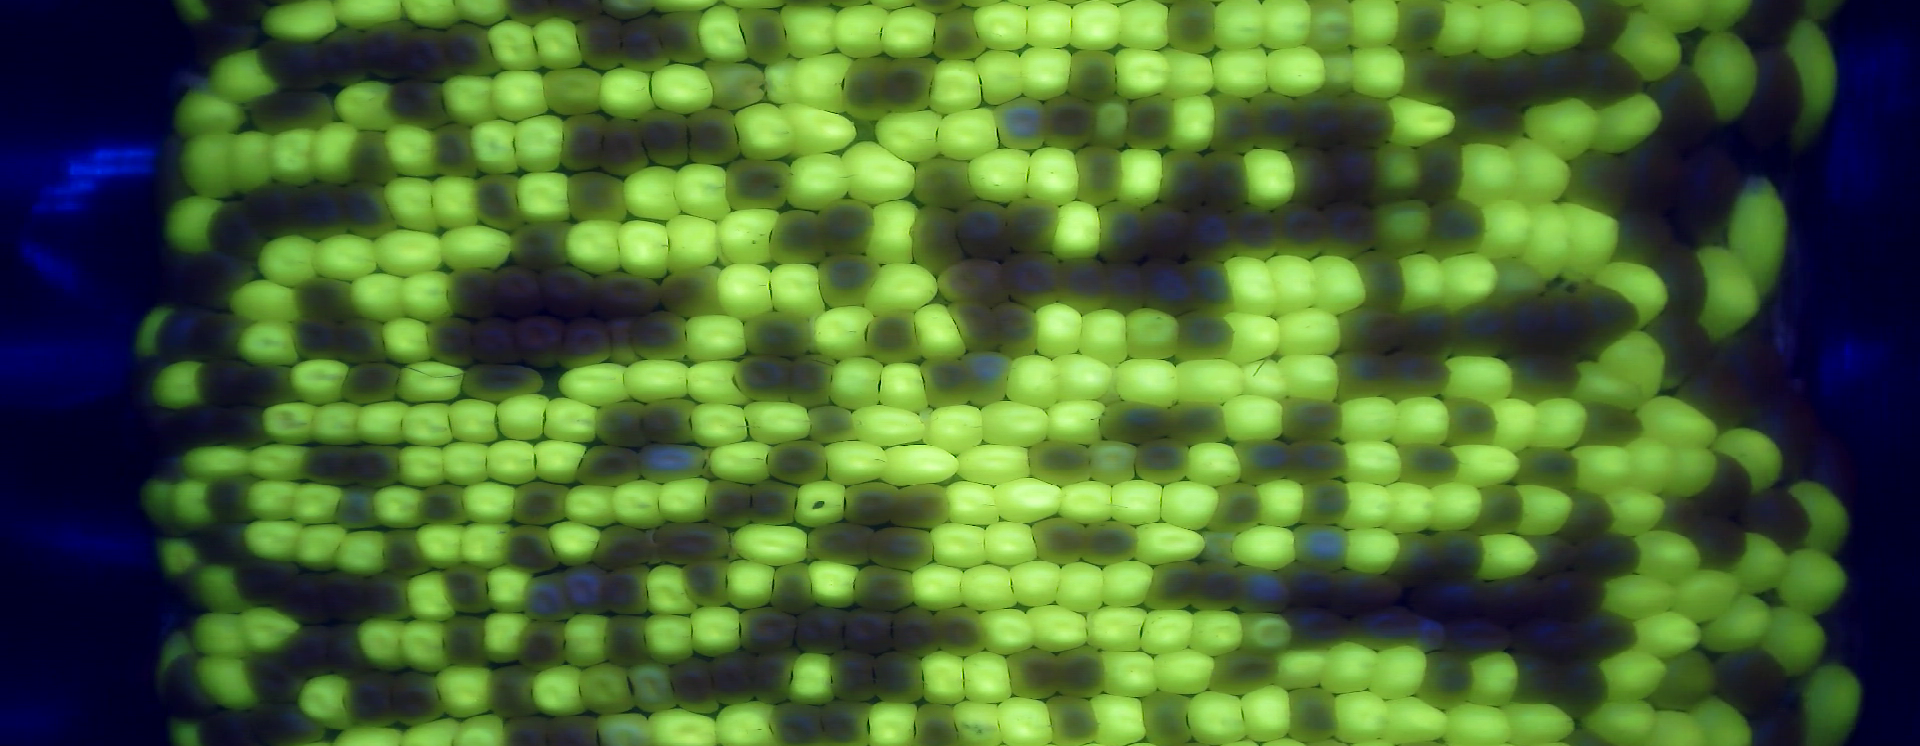fluorescent: (1729, 183, 1788, 293), (1698, 243, 1756, 338), (1788, 22, 1836, 136), (1589, 262, 1668, 330), (1696, 32, 1753, 118), (842, 143, 913, 205), (1806, 668, 1862, 744), (1600, 330, 1659, 402), (1782, 551, 1845, 617), (1791, 480, 1848, 552), (1523, 102, 1598, 154), (1763, 609, 1826, 671), (1618, 16, 1679, 78), (1511, 140, 1569, 203), (718, 208, 782, 265), (1718, 426, 1783, 483), (1389, 98, 1456, 152), (1458, 137, 1511, 206), (889, 440, 962, 489), (937, 107, 1002, 162), (372, 227, 447, 274), (1572, 202, 1621, 274), (789, 102, 853, 156), (1596, 98, 1660, 152), (178, 132, 230, 198), (1243, 147, 1296, 213), (1641, 397, 1716, 443), (1707, 598, 1771, 652), (173, 87, 242, 136), (869, 197, 917, 268), (926, 58, 982, 118), (675, 160, 731, 220), (1738, 532, 1787, 600), (1673, 570, 1736, 622), (438, 225, 514, 269), (874, 111, 940, 162), (651, 60, 713, 114), (970, 149, 1032, 202), (1109, 359, 1178, 407), (213, 51, 279, 100), (1473, 203, 1532, 258), (1224, 254, 1277, 315), (1580, 361, 1647, 409), (958, 440, 1030, 484), (789, 153, 853, 202), (880, 6, 937, 62), (1266, 42, 1324, 97), (825, 358, 884, 412), (1587, 701, 1665, 741), (1178, 361, 1248, 407), (1636, 530, 1696, 583), (980, 401, 1053, 443), (310, 232, 373, 281), (1635, 612, 1698, 661), (382, 175, 437, 232), (1188, 691, 1244, 746), (233, 284, 302, 328), (1447, 354, 1513, 401), (1278, 307, 1340, 358), (1029, 145, 1078, 207), (1041, 398, 1103, 447), (1532, 208, 1573, 282), (868, 262, 936, 307), (193, 652, 249, 707), (768, 260, 822, 316), (618, 220, 670, 279), (811, 307, 869, 359), (1597, 572, 1671, 612), (684, 312, 744, 363), (489, 17, 538, 78), (396, 359, 465, 402), (623, 167, 678, 220), (260, 233, 315, 287), (1053, 202, 1103, 261), (1338, 394, 1398, 443), (998, 477, 1058, 526), (1603, 652, 1663, 701), (1127, 307, 1180, 361), (1371, 642, 1424, 697), (1316, 257, 1367, 315), (1656, 652, 1714, 701), (736, 102, 789, 156), (1269, 257, 1320, 312), (828, 443, 890, 489), (268, 127, 318, 184), (927, 405, 983, 456), (1524, 2, 1582, 51), (1603, 494, 1668, 537), (929, 523, 991, 568), (718, 701, 779, 746), (580, 661, 633, 714), (599, 66, 653, 118), (913, 303, 965, 356), (437, 663, 489, 717), (784, 6, 839, 56), (973, 51, 1024, 107), (486, 437, 542, 486), (301, 680, 358, 729), (240, 604, 298, 652), (556, 364, 631, 401), (1341, 528, 1400, 575), (235, 322, 295, 367), (1573, 442, 1626, 494), (1538, 397, 1589, 450), (721, 265, 771, 318), (1335, 693, 1389, 744), (309, 121, 353, 183), (444, 72, 500, 121), (707, 441, 768, 485), (961, 565, 1016, 614), (239, 477, 294, 526), (1138, 522, 1209, 560), (1085, 608, 1142, 654), (514, 113, 560, 171), (1116, 149, 1161, 208), (290, 356, 349, 402), (1056, 352, 1114, 397), (1184, 442, 1244, 486), (708, 60, 760, 110), (568, 220, 618, 273), (1093, 696, 1146, 746), (1429, 2, 1482, 53), (491, 72, 545, 121), (1018, 47, 1067, 100), (1395, 397, 1449, 446), (1163, 481, 1217, 530), (1520, 486, 1573, 535), (471, 121, 519, 176), (700, 7, 748, 62), (1480, 2, 1528, 58), (228, 132, 268, 197), (748, 403, 813, 443), (651, 706, 716, 746), (797, 55, 844, 111), (1082, 307, 1129, 364), (994, 697, 1051, 744), (1693, 699, 1750, 746), (1450, 443, 1518, 481), (1232, 528, 1294, 570), (545, 69, 604, 113), (1215, 50, 1266, 100), (153, 361, 204, 412), (689, 605, 740, 657), (834, 5, 883, 58), (1445, 704, 1509, 745), (1444, 251, 1487, 311), (264, 2, 334, 39), (965, 650, 1011, 706), (1479, 532, 1536, 577), (1152, 650, 1213, 692), (1671, 441, 1713, 502), (1511, 701, 1576, 740), (735, 527, 806, 562), (384, 122, 433, 174), (1228, 394, 1280, 443), (1193, 608, 1244, 657), (1469, 654, 1518, 706), (1284, 353, 1337, 401), (1228, 315, 1282, 361), (516, 174, 571, 219), (628, 360, 692, 399), (539, 399, 595, 443), (688, 361, 744, 405), (1398, 255, 1442, 311), (1386, 698, 1442, 742), (1030, 606, 1087, 649), (1630, 437, 1673, 495), (531, 18, 582, 67), (671, 217, 720, 267), (1433, 479, 1480, 530), (1102, 652, 1153, 699), (431, 173, 478, 225), (196, 560, 242, 612), (1010, 356, 1056, 410), (852, 407, 921, 442), (1117, 2, 1172, 47), (1164, 51, 1213, 100), (920, 655, 969, 704), (1489, 401, 1538, 450), (1356, 45, 1403, 96), (1342, 481, 1390, 532), (1010, 562, 1060, 610), (727, 559, 774, 610), (1103, 562, 1156, 608), (911, 563, 964, 609), (1038, 303, 1082, 356), (249, 439, 305, 480), (1025, 1, 1073, 50), (876, 363, 924, 410), (949, 481, 998, 529), (463, 479, 512, 527), (1118, 51, 1168, 98), (692, 402, 749, 442), (337, 82, 389, 126), (1245, 684, 1288, 737), (1053, 560, 1101, 608), (978, 2, 1025, 51), (404, 402, 453, 448), (1342, 441, 1398, 481), (498, 392, 549, 437), (1109, 481, 1160, 527), (1142, 611, 1193, 657), (482, 611, 528, 661), (399, 619, 444, 669), (1378, 203, 1429, 247), (982, 612, 1035, 655), (362, 617, 404, 671), (808, 560, 855, 608), (1073, 2, 1118, 51), (1217, 2, 1266, 48), (1311, 4, 1357, 53), (533, 668, 582, 713), (612, 483, 661, 528), (568, 481, 617, 527), (1322, 647, 1373, 691), (791, 481, 842, 524), (416, 522, 463, 568), (407, 572, 453, 619), (1258, 481, 1303, 529), (1387, 484, 1433, 532), (628, 666, 677, 710), (447, 399, 498, 441), (982, 523, 1033, 565), (261, 401, 313, 441), (1238, 610, 1291, 650), (549, 524, 601, 565), (331, 1, 403, 31), (1058, 483, 1112, 522), (659, 477, 707, 521), (786, 653, 828, 703), (863, 704, 915, 745), (1381, 147, 1420, 200), (338, 530, 383, 576), (382, 317, 429, 361), (404, 272, 448, 318), (293, 483, 340, 526), (1275, 649, 1329, 687), (351, 277, 402, 317), (182, 443, 249, 474), (1359, 1, 1403, 47), (315, 401, 359, 446), (953, 699, 996, 746), (1173, 99, 1213, 148), (359, 402, 408, 442), (191, 612, 242, 650), (399, 446, 443, 490), (1266, 2, 1311, 45), (300, 526, 347, 567), (535, 442, 583, 483), (373, 481, 419, 523), (247, 522, 295, 561), (443, 441, 484, 486), (1646, 710, 1697, 746), (564, 615, 604, 661), (1091, 442, 1135, 483), (600, 713, 654, 746), (1240, 363, 1286, 401), (489, 563, 527, 608), (465, 526, 509, 562), (1320, 47, 1356, 92), (147, 480, 182, 523), (398, 718, 451, 746), (451, 717, 501, 746), (135, 307, 163, 358), (162, 533, 195, 575), (760, 62, 796, 100), (178, 486, 208, 527), (159, 630, 184, 677)
nonfluorescent: (1753, 44, 1802, 158), (1516, 657, 1607, 717), (1679, 147, 1738, 234), (1758, 394, 1812, 484), (1651, 67, 1716, 140), (1646, 316, 1706, 383), (1625, 143, 1682, 212), (1678, 367, 1746, 424), (1353, 608, 1442, 650), (864, 307, 924, 371), (1569, 151, 1627, 216), (1713, 652, 1785, 704), (1723, 336, 1774, 407), (999, 250, 1058, 309), (912, 201, 960, 272), (1745, 490, 1812, 540), (1656, 250, 1706, 317), (727, 163, 793, 213), (238, 552, 298, 608), (185, 22, 249, 73), (250, 88, 333, 127), (1588, 287, 1638, 352), (816, 198, 874, 254), (260, 40, 327, 88), (247, 704, 324, 746), (1162, 148, 1212, 212), (1451, 303, 1510, 356), (1510, 356, 1580, 402), (1414, 576, 1483, 621), (1703, 451, 1751, 516), (744, 314, 818, 355), (940, 258, 1008, 304), (953, 198, 1008, 254), (1584, 51, 1640, 107), (1343, 93, 1397, 149), (242, 183, 295, 240), (1539, 575, 1608, 619), (820, 254, 882, 303), (653, 522, 729, 561), (1429, 203, 1484, 257), (1422, 647, 1468, 710), (1097, 201, 1149, 258), (1178, 310, 1236, 361), (1098, 398, 1169, 440), (770, 209, 820, 267), (1420, 136, 1463, 203), (662, 265, 721, 314), (462, 366, 542, 402), (853, 565, 913, 612), (1455, 107, 1523, 148), (1273, 205, 1326, 258), (1056, 260, 1108, 314), (389, 673, 443, 725), (1749, 690, 1802, 742), (207, 201, 258, 256), (193, 256, 249, 307), (1212, 649, 1275, 695), (632, 312, 688, 363), (1513, 616, 1583, 657), (689, 108, 737, 167), (245, 653, 300, 703), (807, 524, 873, 566), (643, 108, 689, 167), (578, 15, 624, 73), (1288, 687, 1335, 746), (593, 272, 662, 311), (578, 445, 645, 485), (540, 262, 593, 314), (391, 78, 444, 129), (1008, 198, 1058, 252), (1008, 646, 1058, 699), (1449, 617, 1513, 659), (1689, 514, 1744, 563), (1296, 91, 1343, 147), (642, 398, 698, 446), (1362, 249, 1408, 306), (513, 481, 571, 528), (1513, 447, 1580, 488), (873, 526, 933, 570), (1578, 533, 1638, 577), (571, 171, 624, 220), (622, 17, 671, 71), (1142, 692, 1191, 746), (1476, 483, 1524, 537), (1618, 212, 1671, 261), (513, 217, 568, 265), (996, 303, 1043, 358), (323, 28, 366, 89), (737, 354, 793, 401), (1331, 566, 1400, 604), (1142, 258, 1191, 311), (1212, 483, 1261, 535), (1340, 347, 1393, 394), (605, 616, 653, 670), (1485, 575, 1539, 622), (167, 657, 209, 717), (883, 55, 929, 110), (793, 352, 840, 407), (593, 401, 648, 447), (343, 360, 399, 405), (1288, 605, 1349, 647), (478, 173, 522, 230), (443, 614, 487, 671), (1253, 96, 1302, 147), (874, 655, 926, 704), (1578, 2, 1630, 51), (1298, 478, 1351, 526), (1237, 567, 1291, 614), (345, 183, 392, 236), (296, 183, 343, 236), (343, 673, 389, 726), (669, 660, 715, 714), (1202, 153, 1248, 208), (448, 269, 503, 315), (598, 524, 653, 570), (1100, 257, 1144, 314), (1085, 521, 1141, 565), (771, 443, 828, 488), (1495, 51, 1538, 109), (920, 354, 969, 404), (1048, 695, 1098, 744), (433, 122, 481, 174), (710, 653, 758, 704), (556, 118, 602, 170), (1538, 49, 1584, 102), (1146, 207, 1191, 261), (1134, 439, 1188, 484), (1293, 437, 1348, 481), (738, 606, 793, 650), (1562, 491, 1618, 535), (366, 22, 407, 82), (326, 621, 369, 677), (994, 98, 1043, 147), (1389, 535, 1438, 584), (829, 650, 878, 699), (563, 318, 611, 369), (1043, 96, 1090, 147), (1127, 96, 1173, 147), (1033, 517, 1085, 563), (1583, 612, 1635, 659), (1506, 301, 1553, 353), (640, 446, 708, 481), (407, 28, 451, 82), (1076, 145, 1120, 198), (1187, 212, 1240, 256), (893, 481, 947, 526), (1451, 53, 1495, 107), (1340, 309, 1402, 347), (845, 60, 884, 120), (1580, 404, 1640, 443), (931, 11, 980, 59), (196, 311, 245, 359), (516, 318, 563, 367), (749, 655, 797, 704), (602, 118, 643, 175), (1169, 401, 1227, 441), (451, 22, 495, 75), (1402, 445, 1456, 488), (1553, 292, 1592, 350), (753, 479, 801, 527), (511, 527, 558, 575), (1240, 437, 1289, 484), (1058, 648, 1104, 697), (489, 668, 535, 717), (1449, 396, 1498, 442), (1404, 53, 1451, 102), (1226, 208, 1271, 258), (934, 606, 980, 657), (520, 622, 566, 673), (842, 608, 893, 653), (1329, 205, 1373, 256), (847, 483, 900, 526), (1298, 527, 1356, 566), (660, 10, 700, 65), (1033, 441, 1089, 481), (1438, 534, 1484, 582), (605, 568, 651, 616), (1069, 54, 1114, 103), (1406, 306, 1455, 352), (288, 317, 337, 363), (443, 565, 489, 614), (1211, 97, 1255, 147), (198, 524, 249, 568), (1398, 2, 1442, 53), (1287, 563, 1338, 606), (1291, 149, 1332, 202), (298, 277, 350, 318), (498, 266, 540, 318), (338, 318, 384, 365), (469, 318, 516, 365), (680, 561, 727, 606), (1393, 356, 1449, 396), (793, 608, 842, 652), (1529, 534, 1578, 578), (1193, 258, 1236, 309), (1147, 563, 1198, 606), (1331, 149, 1373, 201), (1288, 401, 1344, 439), (304, 447, 358, 486), (207, 475, 253, 521), (1171, 4, 1215, 51), (154, 314, 198, 361), (324, 567, 362, 622), (956, 306, 1002, 352), (823, 701, 868, 746), (1198, 563, 1240, 611), (426, 317, 469, 365), (527, 575, 569, 622), (218, 407, 267, 448), (707, 481, 751, 527), (380, 530, 422, 577), (242, 364, 291, 404), (200, 707, 253, 744), (365, 575, 409, 619), (350, 135, 392, 181), (567, 566, 609, 612), (291, 625, 328, 677), (167, 408, 216, 447), (893, 606, 936, 650), (969, 352, 1004, 404), (287, 575, 324, 624), (775, 563, 814, 610), (913, 704, 956, 746), (422, 481, 464, 523), (353, 447, 399, 484), (775, 710, 823, 746), (1199, 530, 1243, 568), (807, 405, 853, 441), (198, 364, 242, 399), (336, 488, 373, 528), (1660, 497, 1704, 532), (609, 318, 640, 363)
